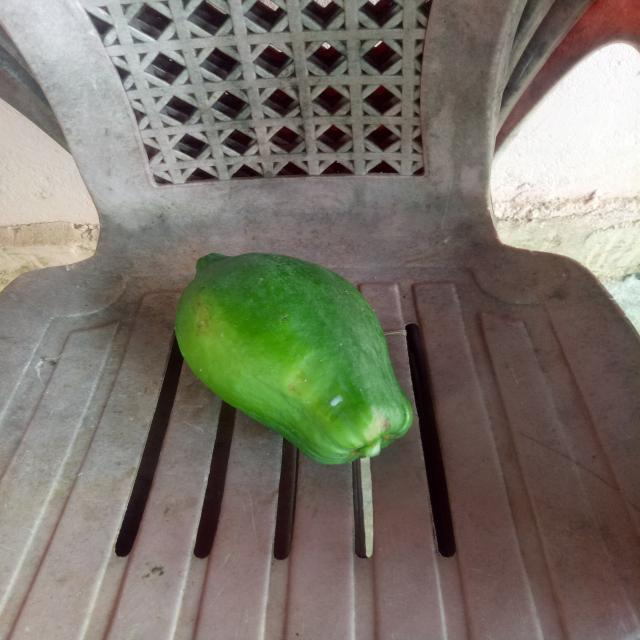Pepaya unrippen: (166, 247, 426, 466)
